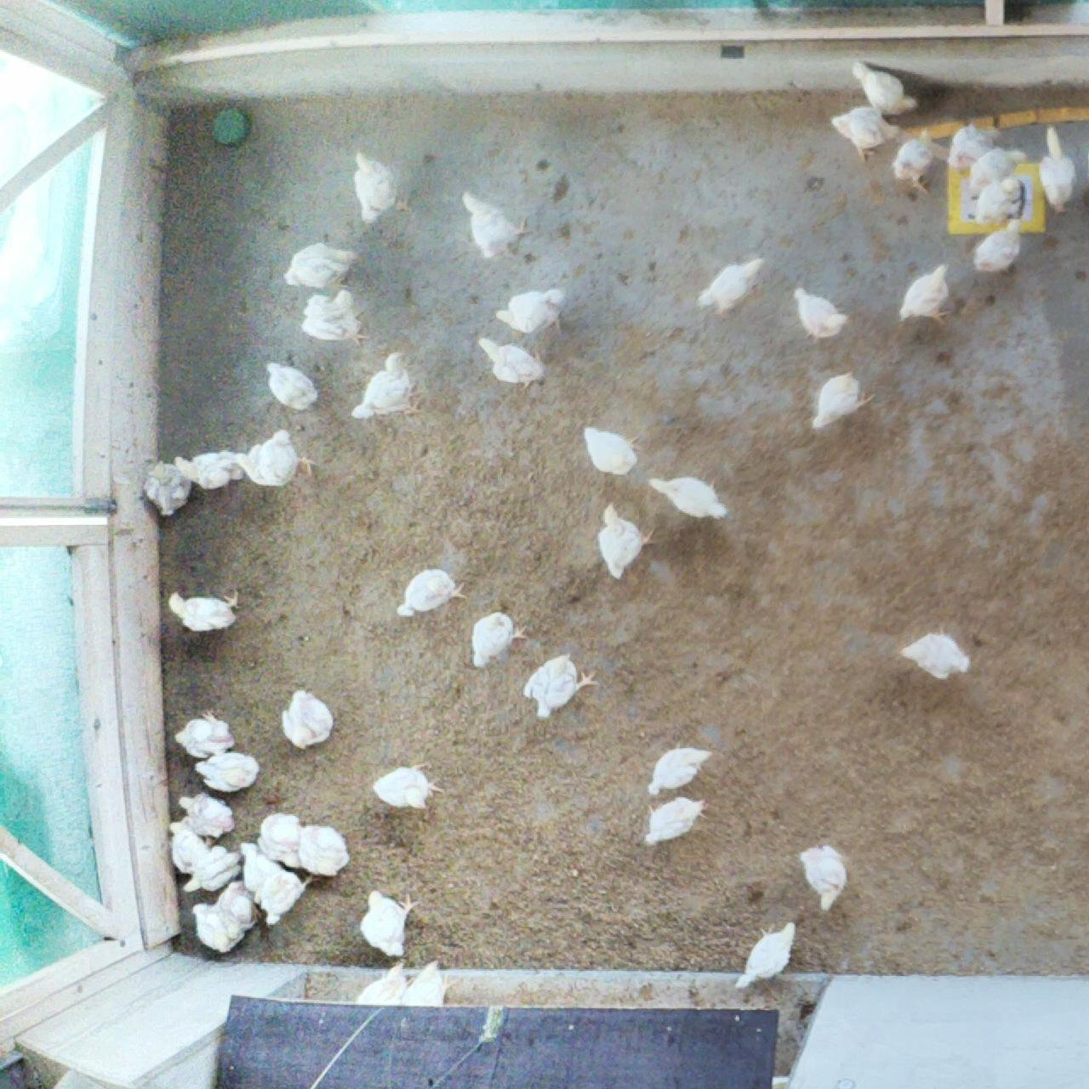chicken: (351, 145, 419, 230), (348, 351, 414, 423), (520, 659, 594, 722), (463, 191, 532, 257), (729, 924, 798, 988), (596, 499, 651, 578), (358, 888, 417, 961), (236, 435, 322, 485), (302, 291, 370, 353), (696, 256, 770, 311), (815, 368, 874, 436), (242, 851, 301, 918), (282, 682, 336, 755), (393, 566, 465, 619), (651, 476, 733, 522), (852, 60, 923, 113), (488, 291, 568, 338), (279, 243, 357, 291), (477, 332, 544, 385), (256, 357, 324, 409), (800, 839, 847, 914), (834, 107, 898, 162), (147, 450, 197, 518), (167, 590, 239, 637), (1039, 123, 1077, 211), (897, 262, 950, 325), (648, 744, 713, 795), (970, 219, 1029, 275), (646, 795, 705, 851), (471, 608, 524, 669), (890, 140, 959, 186), (901, 633, 970, 679), (180, 842, 238, 895), (583, 427, 641, 477), (291, 826, 349, 876), (938, 123, 1003, 167), (792, 283, 843, 339), (964, 149, 1029, 192), (377, 761, 434, 810), (176, 710, 232, 759), (174, 448, 242, 486), (406, 955, 449, 1010), (198, 754, 260, 792), (182, 795, 235, 839), (191, 911, 242, 956), (355, 962, 405, 1005), (217, 889, 263, 932), (174, 823, 211, 874), (983, 178, 1023, 224), (260, 810, 293, 857)
